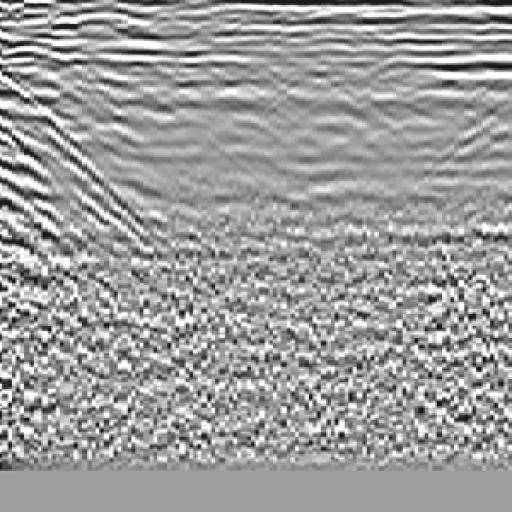metalic: (270, 51, 435, 297)
nonmetalic: (1, 78, 165, 339)
